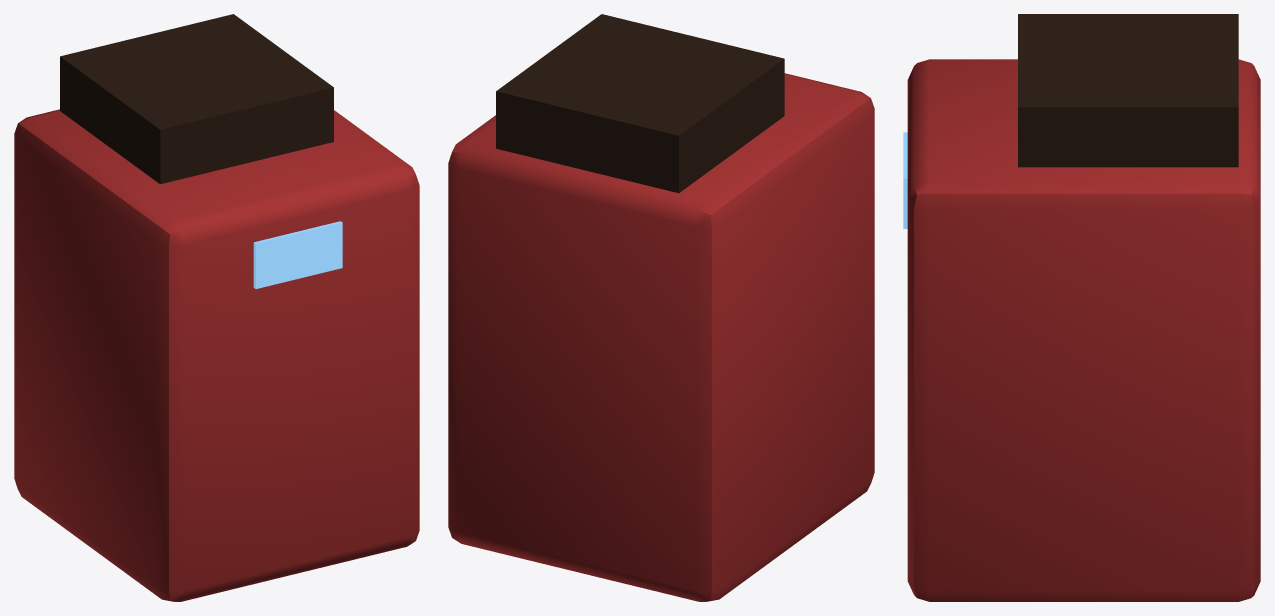
The model's file is coffee_machine.glb.
3 renders of one model, left to right at view 1: azimuth 30°, elevation 25°; view 2: azimuth 150°, elevation 25°; view 3: azimuth 270°, elevation 25°, orthographic. The views are drawn at different scales.
Visible parts, largest first — view 1: coffee, screen; view 2: coffee; view 3: coffee, screen.
Part boxes in pixels (x1,y1,x2,y2): coffee: (14,14,419,601); screen: (253,221,342,288); coffee: (448,14,874,601); coffee: (907,14,1260,601); screen: (903,132,907,228).
Size of the model in its own units: 0.3 by 0.48 by 0.324.
